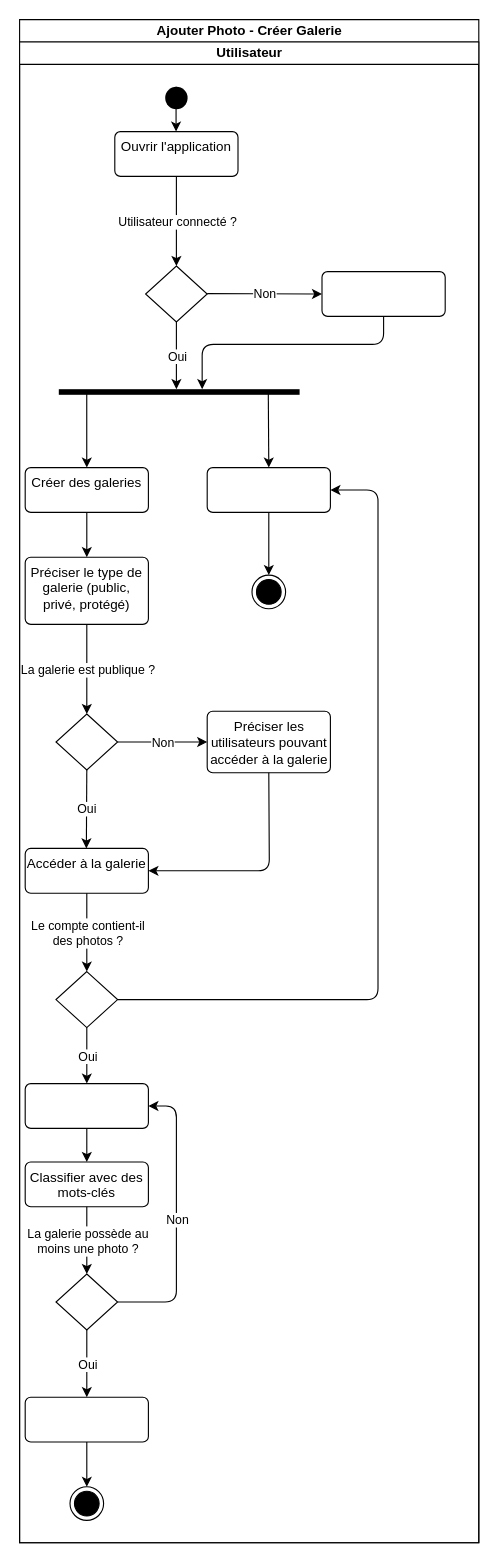
Image size: 498x1562. Some labels were removed from this diagram. The shapes that lost their labels are listed below. From the top down, each one's centre as x and y in pixels, then its label:
At (383,293): "Se Connecter".
At (268,489): "Ajouter des photos".
At (86,1105): "Associer des photos à la galerie".
At (86,1419): "Publier".
